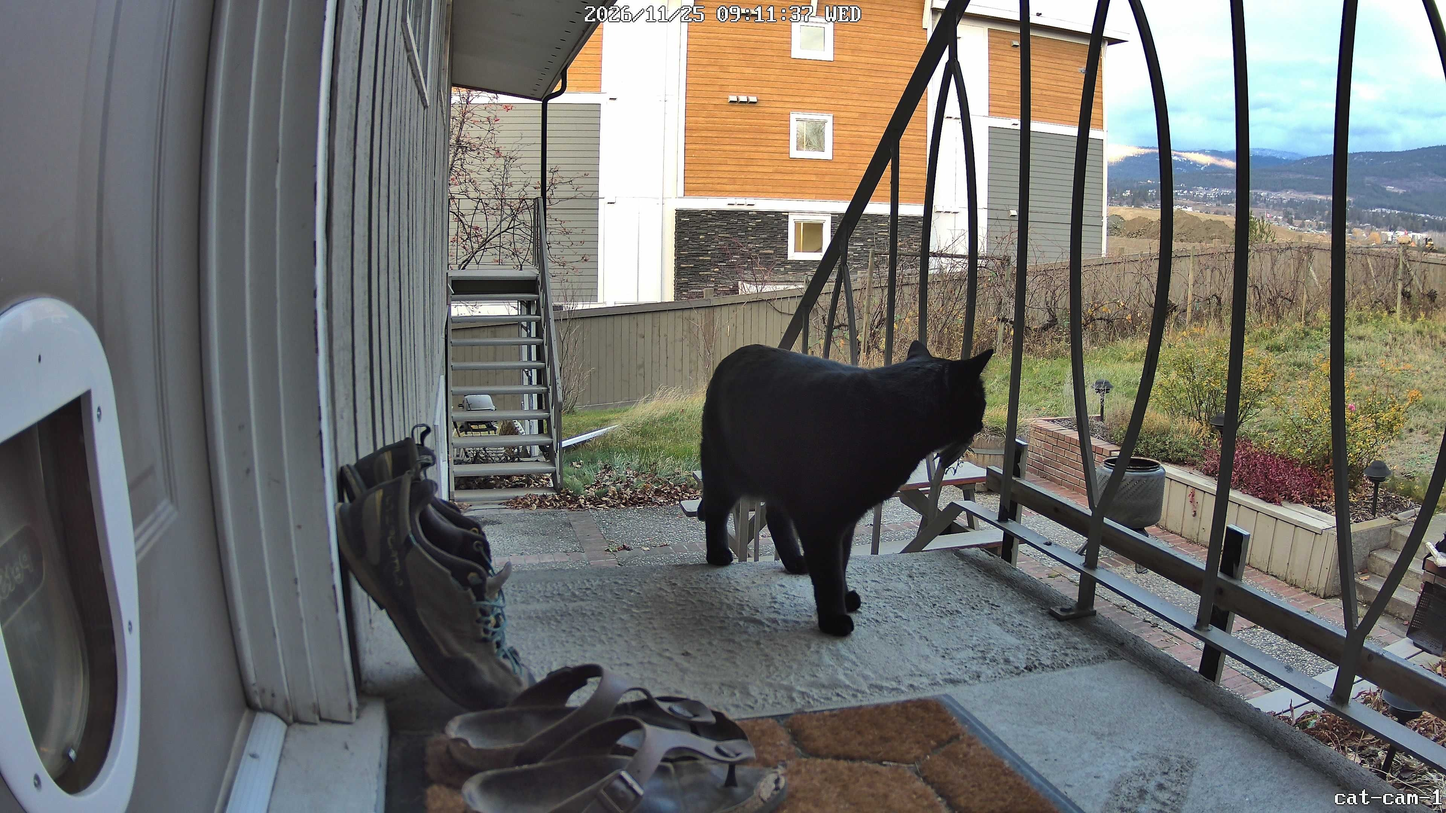prey: (921, 381, 995, 483)
